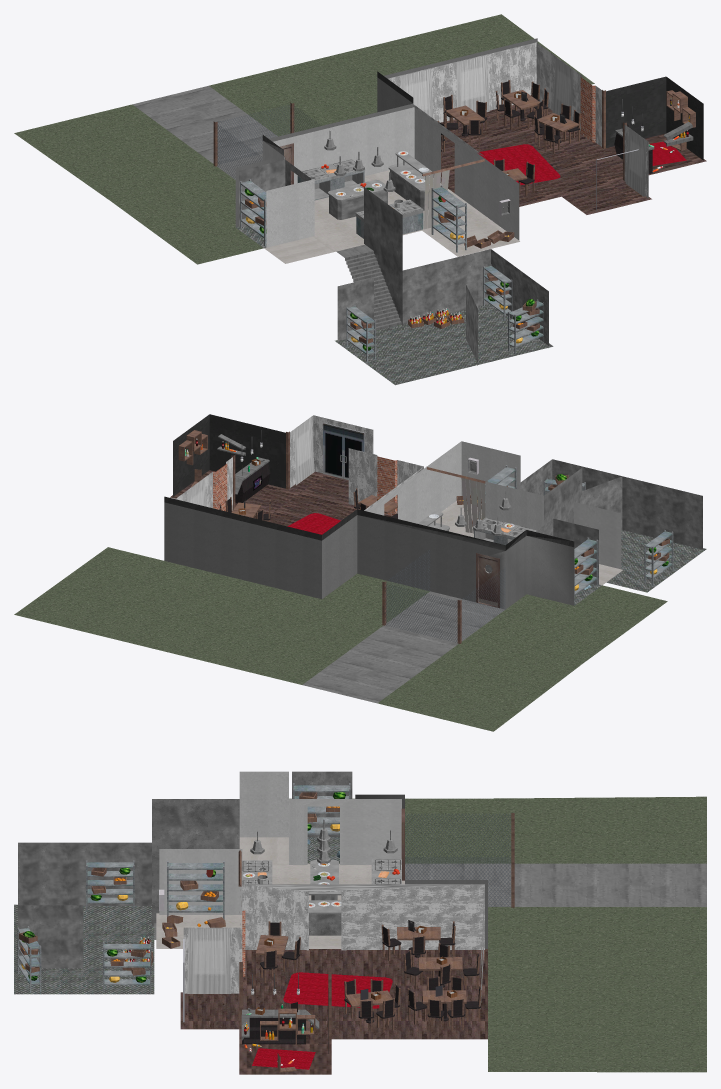
The picture shows the model from 3 angles, top to bottom: view 1: azimuth 30°, elevation 25°; view 2: azimuth 150°, elevation 25°; view 3: azimuth 270°, elevation 25°; orthographic projection. The views are drawn at different scales.
Visible parts, largest first — view 1: floor, walls, room decor 2, windows, basement decor, room decor 1, street decor, table for food, stoves, food room decor 1, stairs, player room decor (+2 smaller); view 2: floor, walls, street decor, room decor 1, windows, basement decor, food room decor 2, player room decor, room decor 2, stoves, food room decor 1; view 3: floor, walls, room decor 2, room decor 1, street decor, basement decor, windows, food room decor 1, table for food, player room decor, stoves, lamps (+1 smaller).
Part boxes in pixels (x1,y1,x2,y2): floor: [14, 14, 706, 385]; walls: [235, 38, 703, 365]; room decor 2: [437, 80, 580, 195]; windows: [400, 55, 646, 197]; basement decor: [346, 264, 543, 361]; room decor 1: [478, 90, 695, 185]; street decor: [213, 102, 320, 184]; table for food: [328, 151, 441, 219]; stoves: [297, 159, 423, 238]; food room decor 1: [431, 185, 514, 252]; stairs: [336, 244, 401, 330]; player room decor: [240, 179, 266, 246]; floor: [14, 470, 706, 731]; walls: [164, 414, 702, 609]; street decor: [382, 550, 505, 643]; room decor 1: [178, 429, 340, 534]; windows: [187, 417, 314, 506]; basement decor: [543, 474, 673, 585]; food room decor 2: [426, 467, 487, 533]; player room decor: [574, 537, 598, 602]; room decor 2: [219, 488, 397, 521]; stoves: [473, 517, 537, 545]; food room decor 1: [456, 457, 516, 508]; floor: [14, 796, 706, 1074]; walls: [18, 771, 487, 1053]; room decor 2: [255, 920, 481, 1032]; room decor 1: [239, 962, 392, 1072]; street decor: [401, 808, 514, 907]; basement decor: [17, 860, 153, 992]; windows: [187, 899, 484, 1008]; food room decor 1: [159, 861, 224, 948]; table for food: [309, 860, 341, 935]; player room decor: [293, 783, 350, 857]; stoves: [242, 859, 401, 884]; lamps: [250, 820, 397, 863].
Size of the model in its own units: 15.81 by 3.71 by 16.67.
48 materials, 45 textured.
